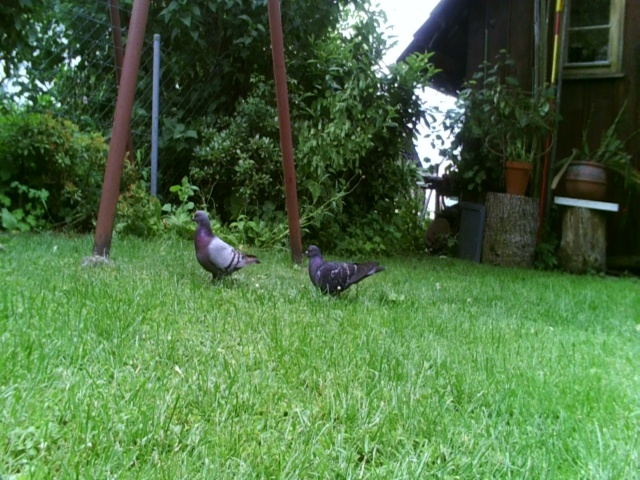Pigeon: (295, 237, 391, 307), (184, 208, 263, 289)
